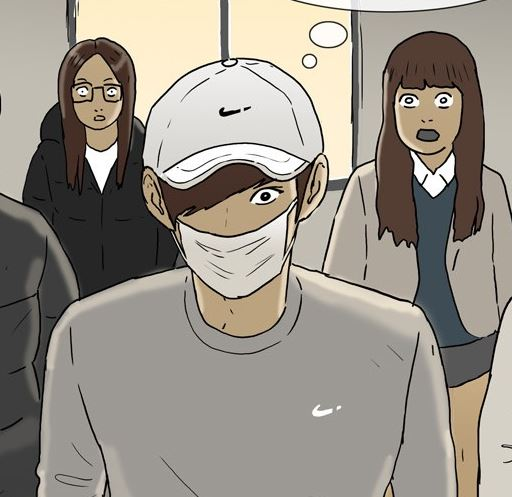hat: (139, 54, 331, 190)
